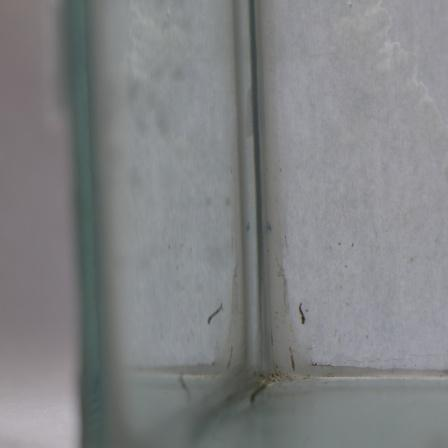Jentik-Nyamuk: (293, 301, 309, 329)
